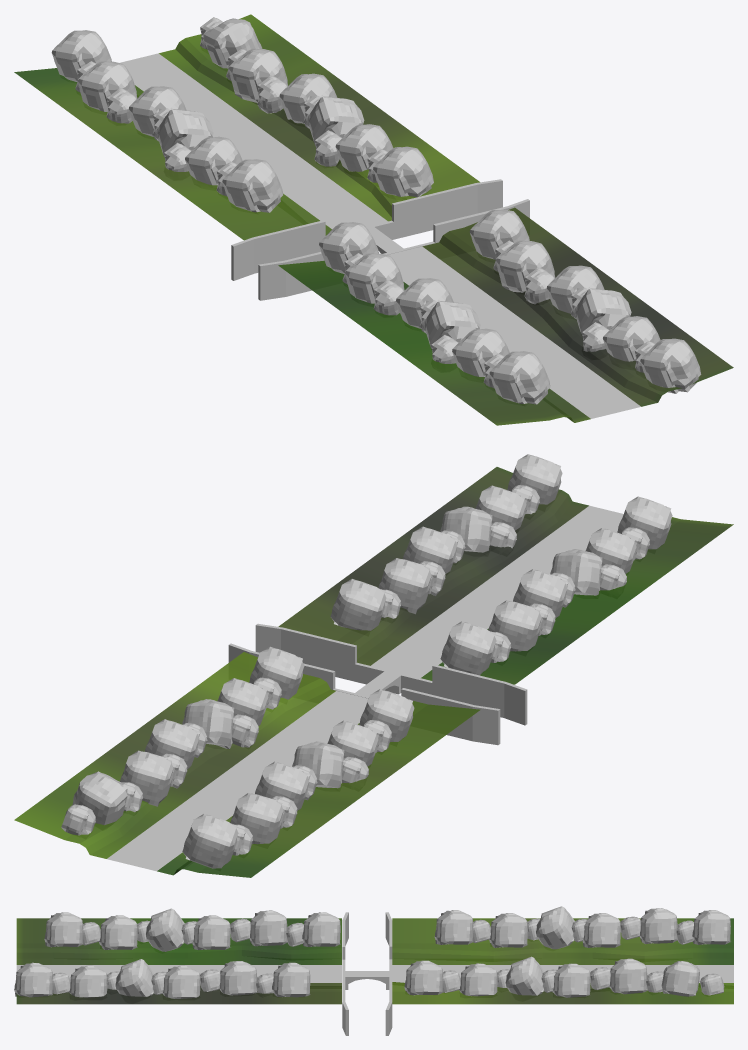
File: bridgeWithRocks2.fbx
3 renders of one model, top to bottom at view 1: azimuth 30°, elevation 25°; view 2: azimuth 150°, elevation 25°; view 3: azimuth 270°, elevation 25°, orthographic. The views are drawn at different scales.
Parts seen in each view (by area): view 1: Plane, Plane.001, Rock.014, Rock.031, Rock.036, Rock.009, Rock.002, Rock.043, Rock.022, Rock.023, Rock.024, Rock.021 (+19 smaller); view 2: Plane, Plane.001, Rock.022, Rock.023, Rock.044, Rock.001, Rock.002, Rock.043, Rock.021, Rock.024, Rock.031, Rock.014 (+16 smaller); view 3: Plane, Plane.001, Rock.017, Rock.028, Rock.021, Rock.024, Rock.022, Rock.006, Rock.014, Rock.002, Rock.023, Rock.031 (+31 smaller).
Part boxes in pixels (box(x1,y1,x2,y2)): Plane: box(14, 14, 733, 425); Plane.001: box(231, 179, 529, 300); Rock.014: box(222, 159, 283, 212); Rock.031: box(489, 351, 550, 404); Rock.036: box(640, 338, 701, 393); Rock.009: box(373, 146, 433, 197); Rock.002: box(229, 48, 287, 102); Rock.043: box(496, 240, 555, 292); Rock.022: box(51, 30, 111, 81); Rock.023: box(319, 222, 378, 273); Rock.024: box(345, 253, 404, 303); Rock.021: box(78, 61, 137, 111); Plane: box(14, 467, 733, 877); Plane.001: box(228, 623, 527, 745); Rock.022: box(182, 813, 238, 868); Rock.023: box(440, 621, 496, 675); Rock.044: box(330, 579, 386, 630); Rock.001: box(72, 771, 127, 825); Rock.002: box(120, 750, 173, 806); Rock.043: box(378, 558, 431, 614); Rock.021: box(230, 793, 283, 844); Rock.024: box(488, 600, 541, 651); Rock.031: box(617, 496, 672, 549); Rock.014: box(359, 689, 414, 742); Plane: box(16, 918, 733, 1004); Plane.001: box(342, 912, 392, 1035); Rock.017: box(536, 906, 574, 949); Rock.028: box(146, 908, 184, 951); Rock.021: box(640, 908, 677, 943); Rock.024: box(249, 910, 287, 946); Rock.022: box(692, 910, 730, 944); Rock.006: box(505, 956, 544, 995); Rock.014: box(434, 910, 473, 944); Rock.002: box(609, 958, 647, 994); Rock.023: box(302, 912, 340, 946); Rock.031: box(44, 912, 83, 947).
Bounding box in the file's own units: 3223 × 810 × 10036.
